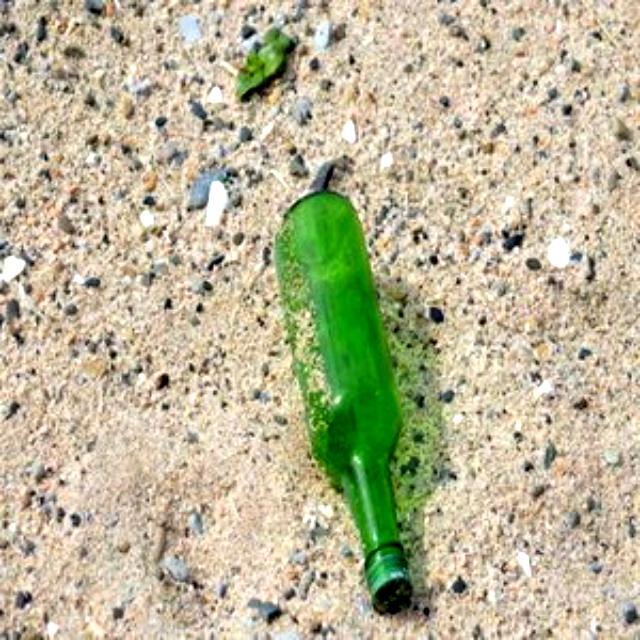Glass: (275, 184, 417, 622)
